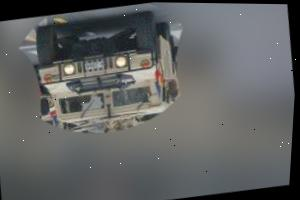armored_car: (22, 0, 190, 143)
